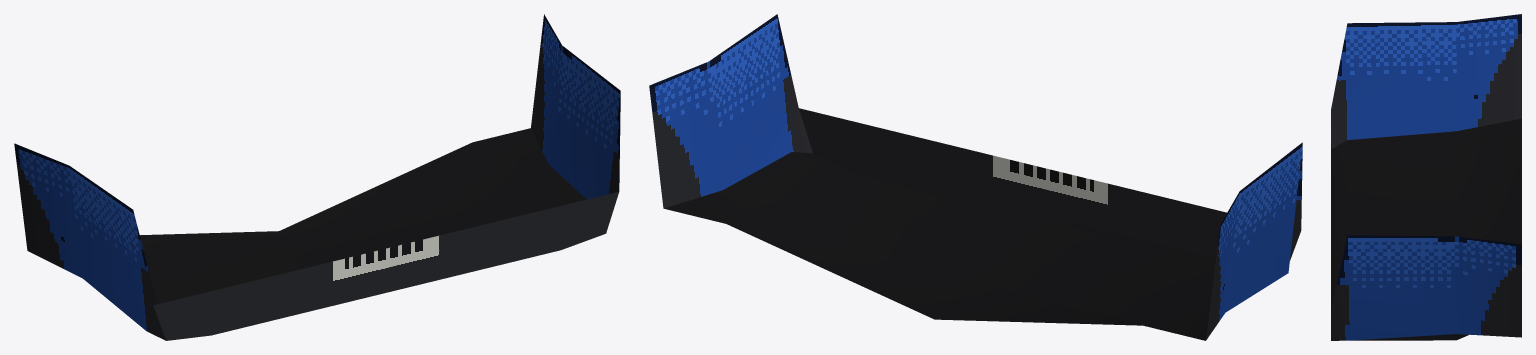
Rendered from bumper_R_stock.glb.
3 renders of one model, left to right at view 1: azimuth 30°, elevation 25°; view 2: azimuth 150°, elevation 25°; view 3: azimuth 270°, elevation 25°, orthographic. The views are drawn at different scales.
Visible parts, largest first — view 1: bumper_R_stock; view 2: bumper_R_stock; view 3: bumper_R_stock.
Part boxes in pixels (x1,y1,x2,y2): bumper_R_stock: (14, 14, 620, 340); bumper_R_stock: (649, 14, 1302, 340); bumper_R_stock: (1331, 14, 1521, 340).
Size of the model in its own units: 2 by 0.55 by 0.7.
Materials: 1 (1 with a texture image).
